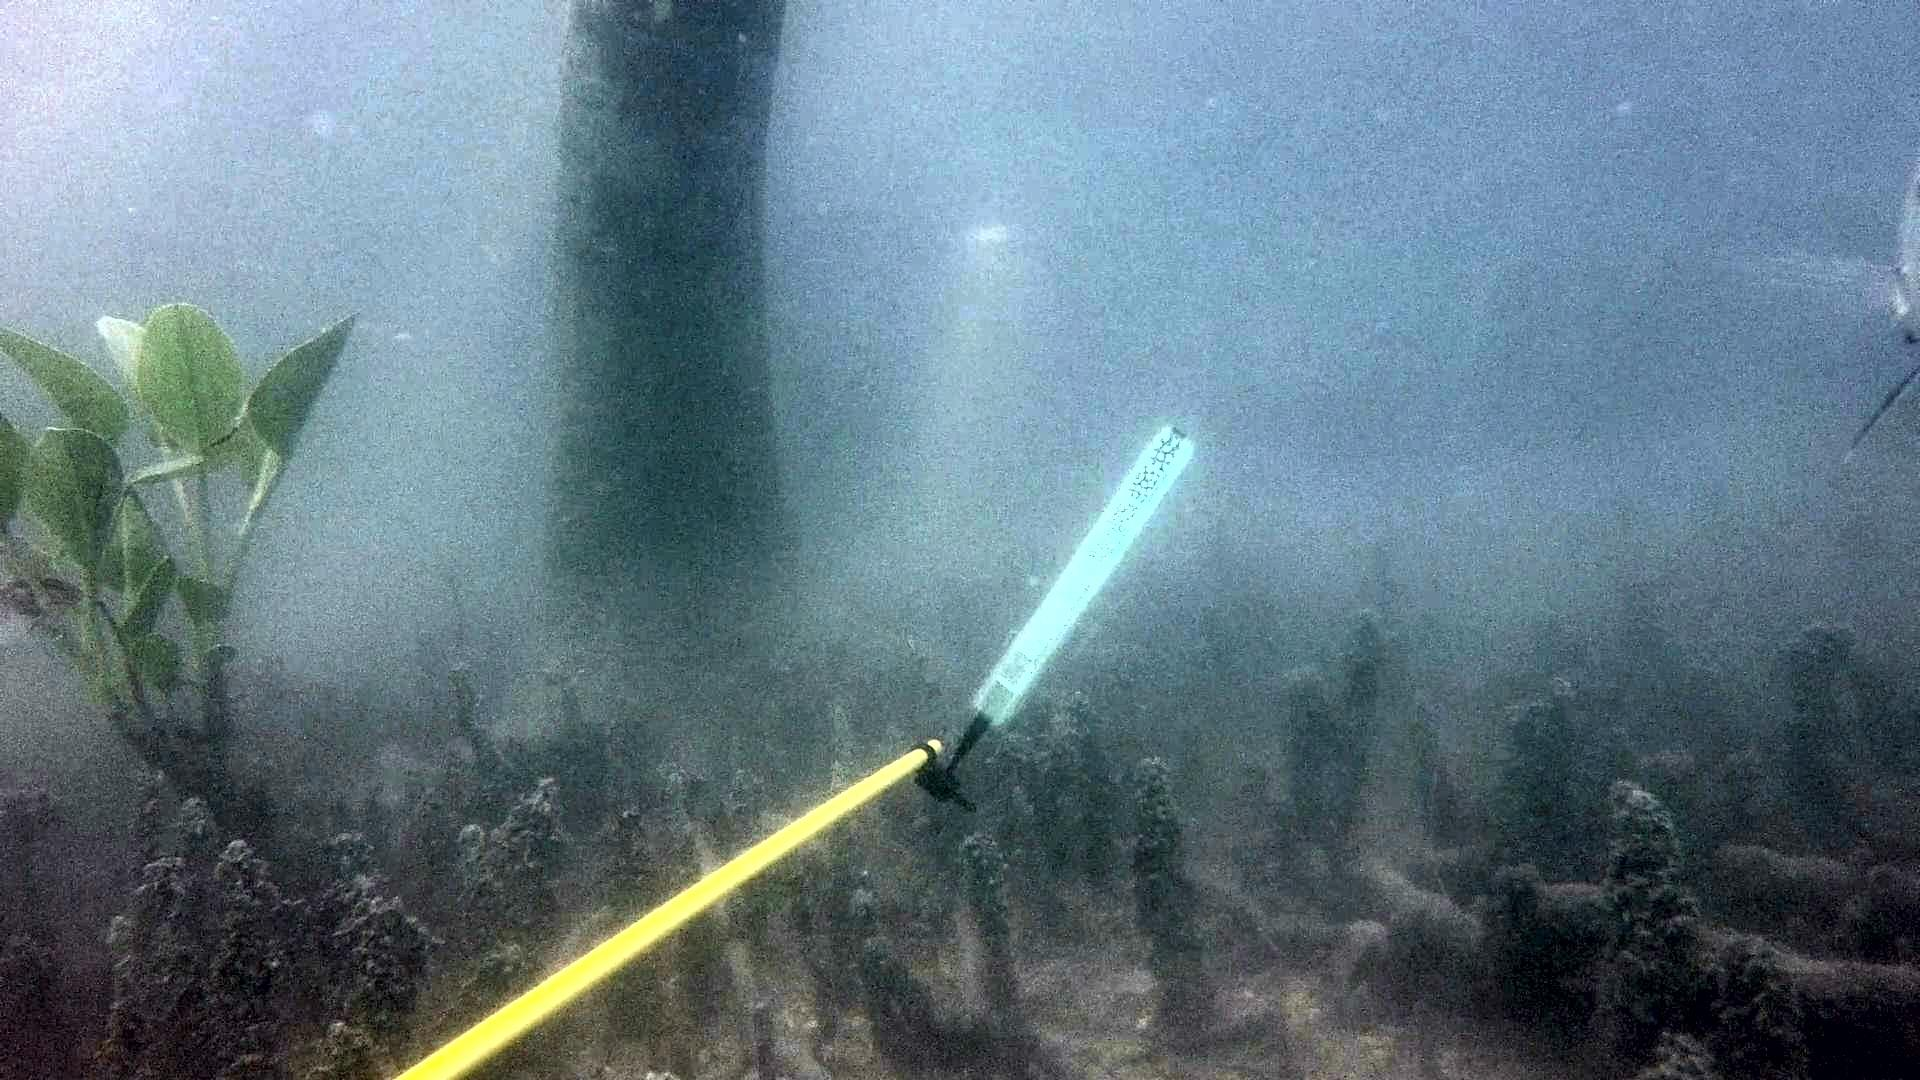acanthopagrus palmaris: (1716, 129, 1920, 491)
